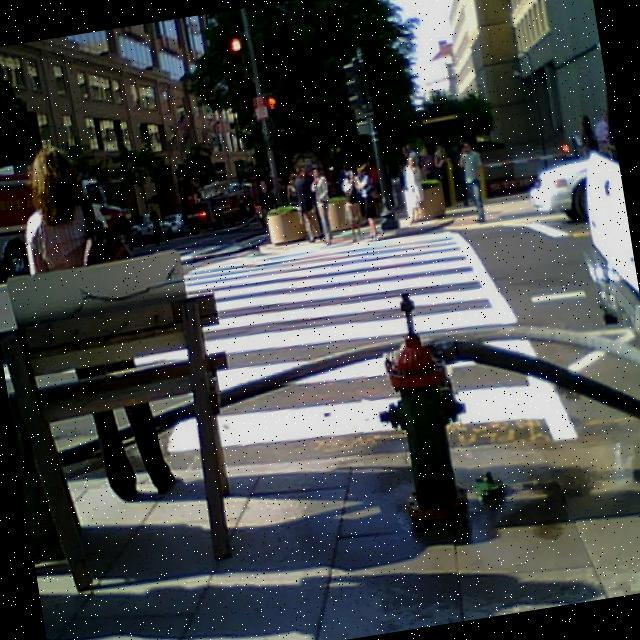fire_hydrant: (359, 284, 485, 538)
